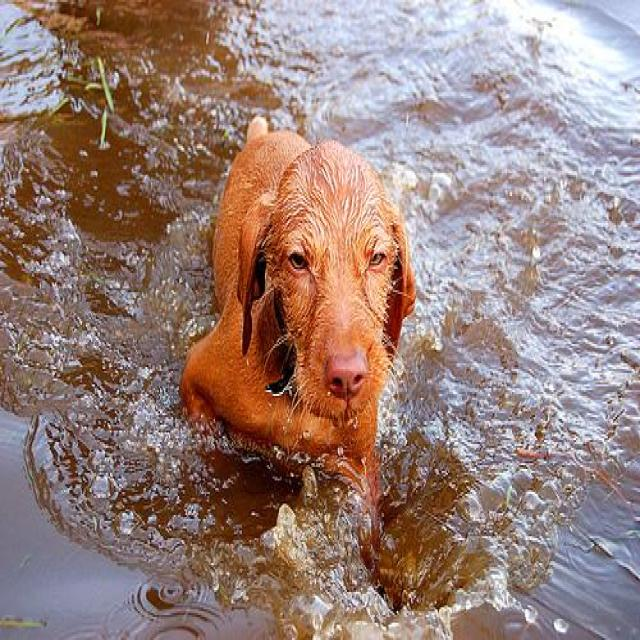vizsla: (179, 114, 415, 478)
